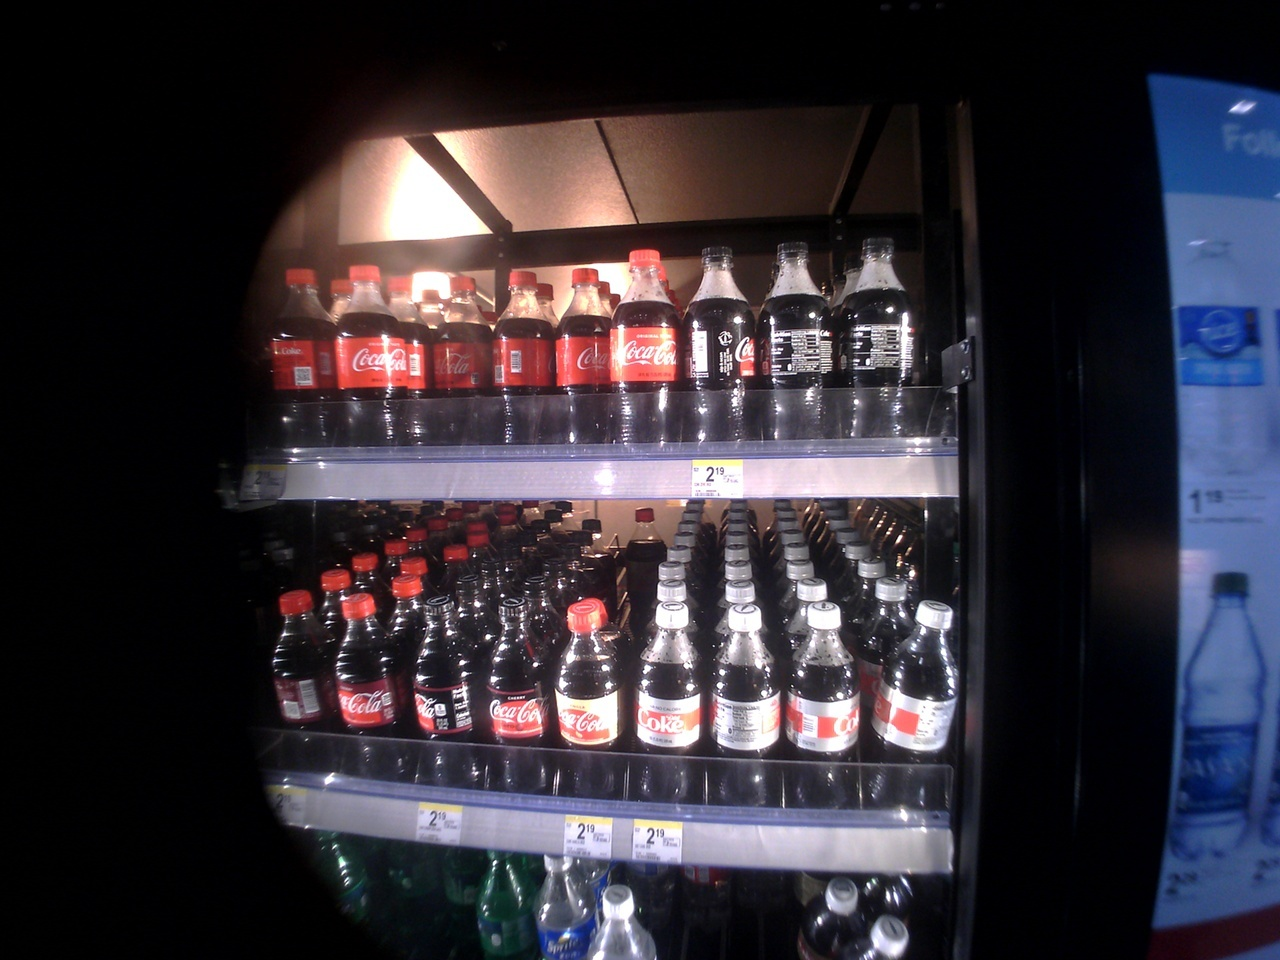shelf: (191, 483, 1014, 822), (260, 243, 958, 505)
